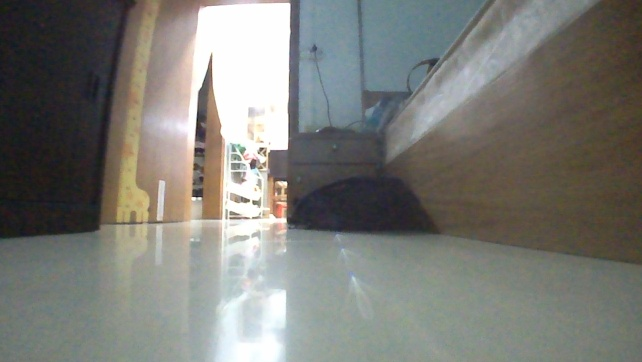bed1: (360, 0, 641, 265)
cabinet: (283, 128, 382, 219)
door_anno: (95, 0, 203, 228)
wire: (308, 45, 332, 125), (403, 54, 429, 91)
